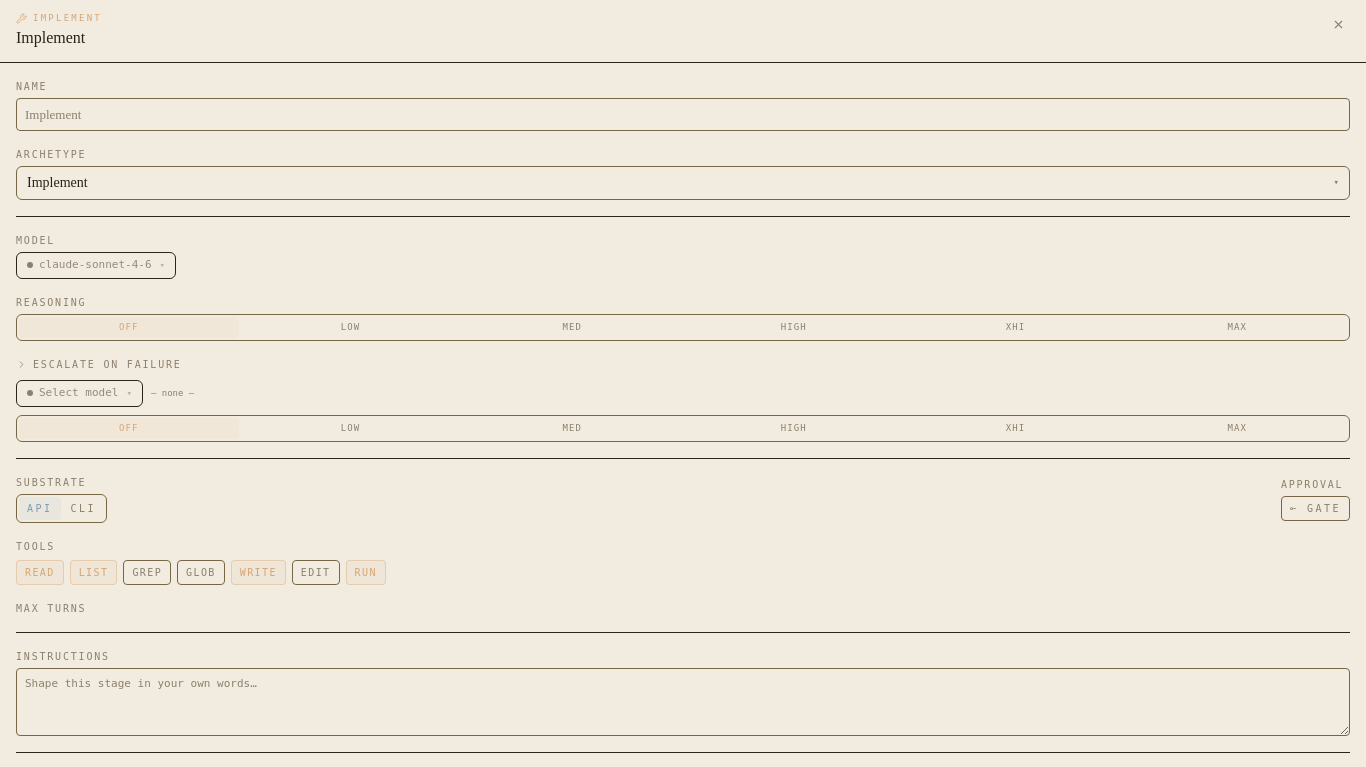
Test case: StageInspector — escalation disclosure › toggles open on click
Step 1. Click the button "Escalate on failure" → (107, 364), box [16,357,1350,372]
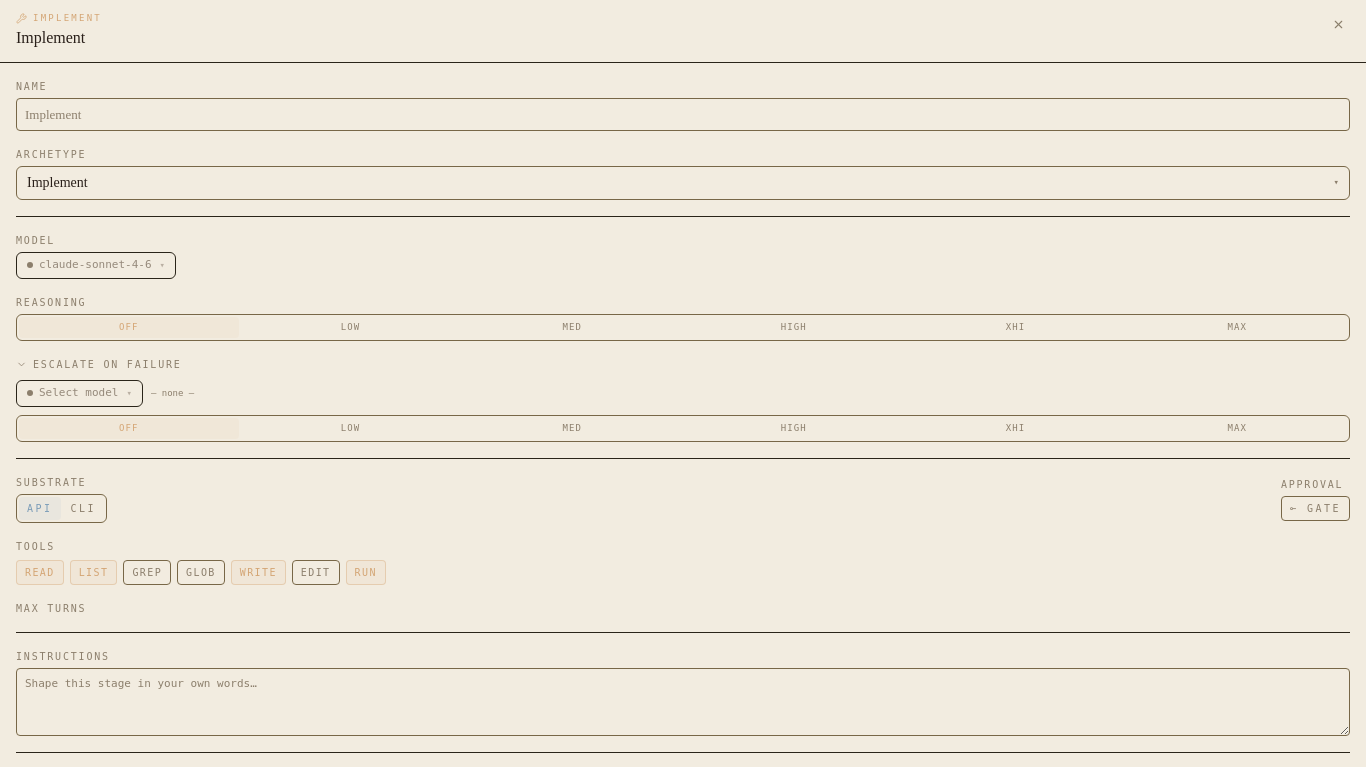
Expected: the button "Escalate on failure" is expanded, [16,357,1350,372]
